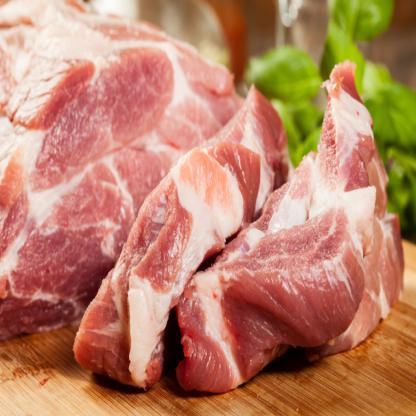pork: (0, 0, 408, 403)
